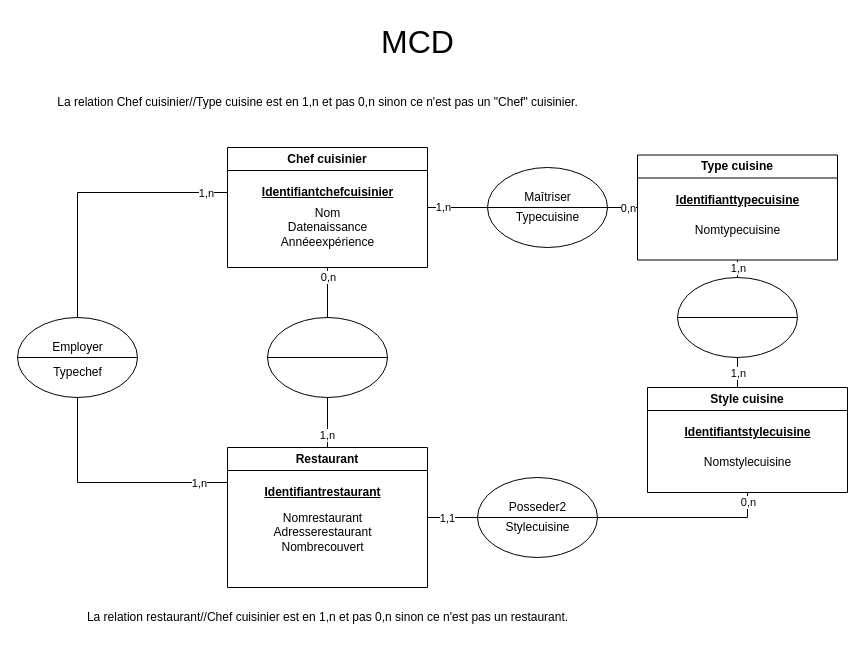
Image size: 865x649. Some labels were removed from this diagram. The centre of each missing label's shape, as x and y in pixels:
"Appartenir" goes at (737,317).
"Travailler" goes at (327,357).
